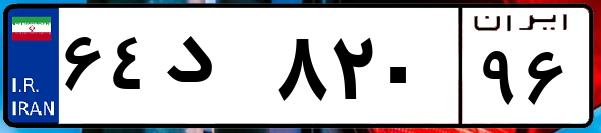0: (385, 28, 445, 110)
2: (330, 28, 385, 110)
4: (110, 28, 158, 98)
6: (57, 26, 110, 100), (525, 38, 570, 115)
8: (270, 28, 330, 110)
9: (475, 38, 525, 113)
د: (158, 20, 270, 120)
